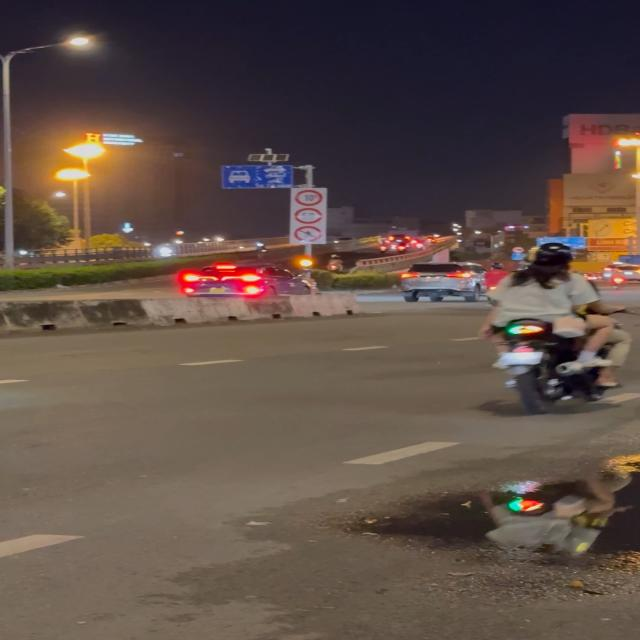Bien bao cam nguoi di bo: (294, 226, 323, 242)
Bien bao toc do toi da cho phep: (294, 207, 324, 225)
